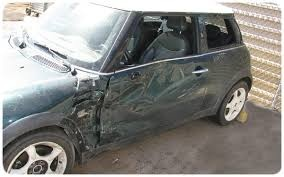Dent: (62, 65, 221, 152)
